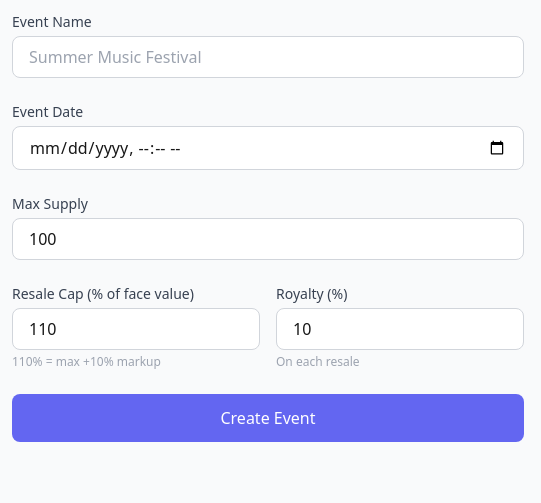
Test case: EventForm › shows error message on failed submission
Type "Duplicate Event" into the field with placeholder "Summer Music Festival". click: (268, 57)
box: [12,36,524,78]
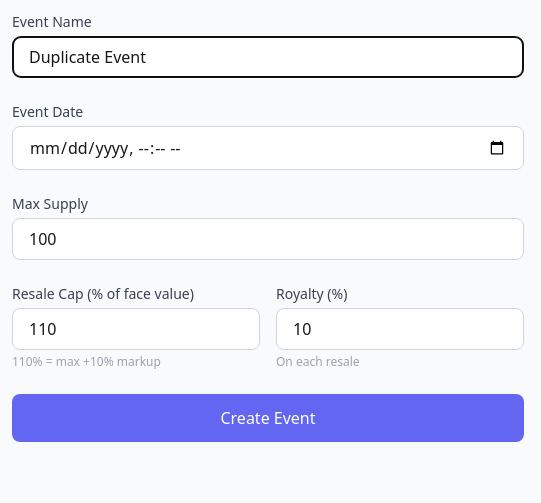
Type "2026-08-20T19:00" into the field below "Event Date". click: (268, 148)
box: [12,126,524,170]
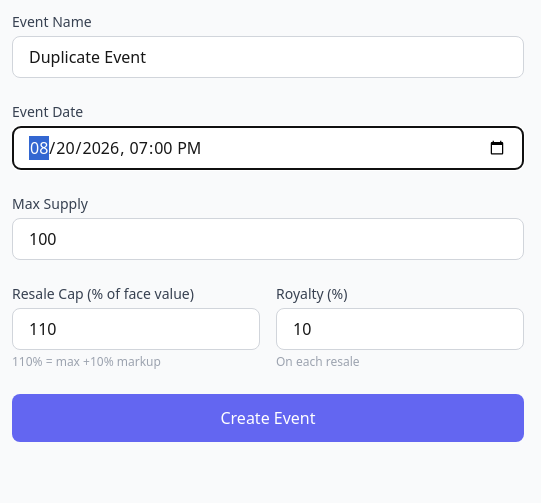
Click the button "Create Event". click: click(268, 418)
box: [12,394,524,442]
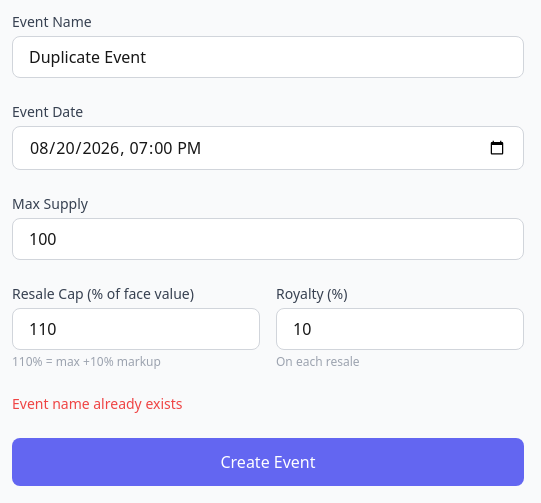
expect the text "Event name already exists" is shown: met, box [12,394,182,413]
